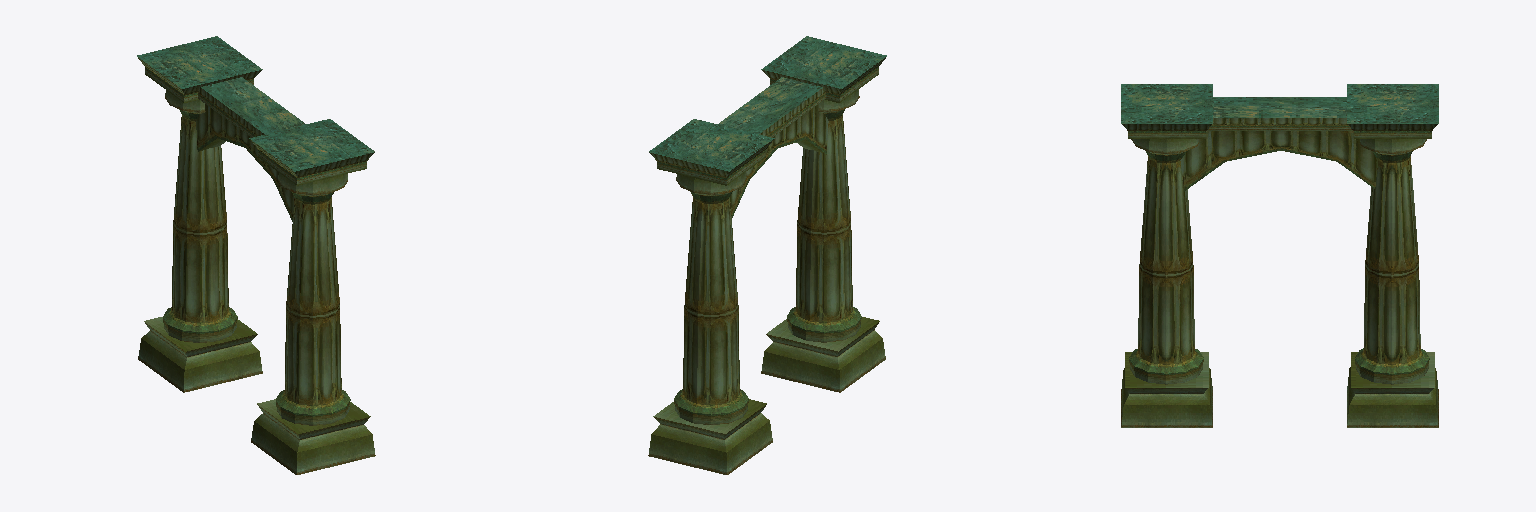
3 renders of one model, left to right at view 1: azimuth 30°, elevation 25°; view 2: azimuth 150°, elevation 25°; view 3: azimuth 270°, elevation 25°, orthographic.
Visible parts, largest first — view 1: Geoset_000; view 2: Geoset_000; view 3: Geoset_000.
Boxes of the visible parts, x1,y1,x2,y2 form: Geoset_000: [137, 36, 375, 474]; Geoset_000: [648, 36, 886, 474]; Geoset_000: [1121, 84, 1438, 427].
Size of the model in its own units: 11.75 by 42.23 by 39.91.
Materials: 1 (1 with a texture image).